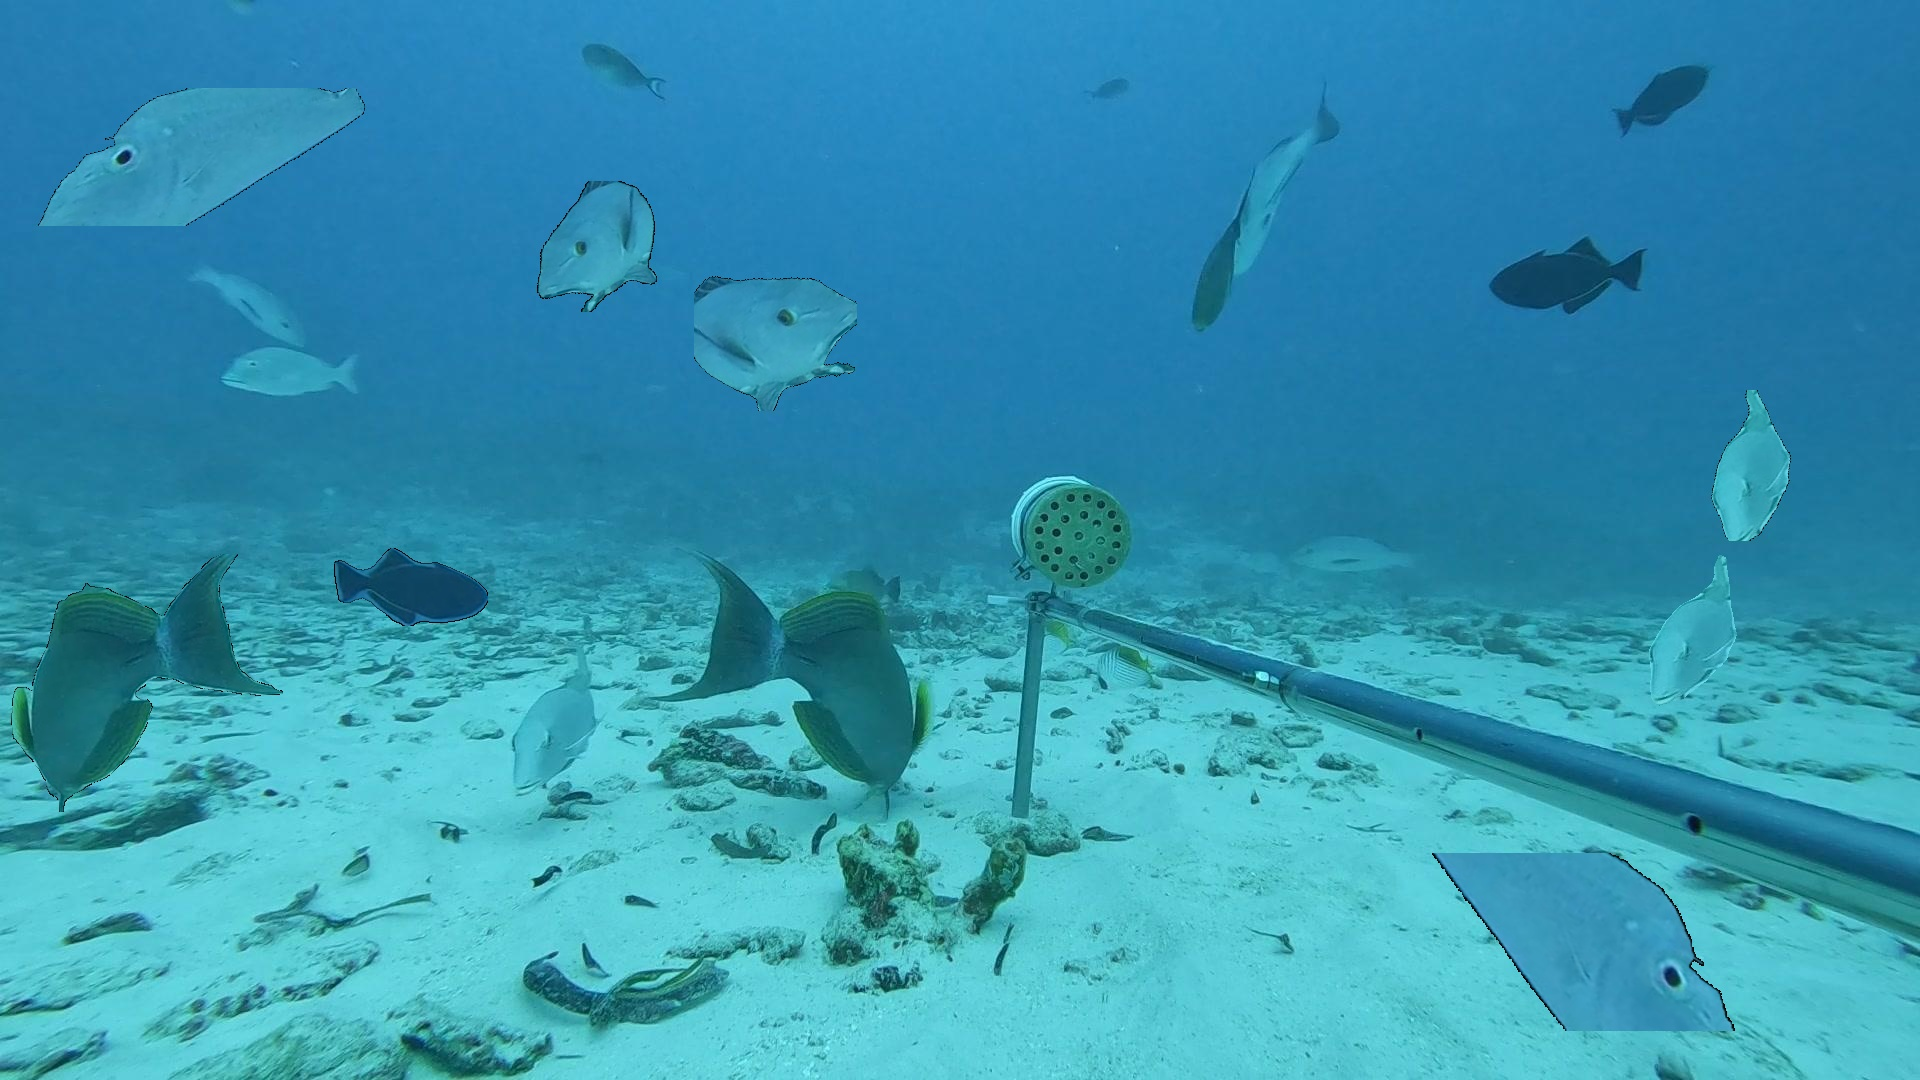fish: (658, 535, 956, 822), (1360, 853, 1809, 1031), (11, 554, 284, 812), (1155, 65, 1375, 356), (22, 88, 372, 225), (1477, 207, 1665, 352), (694, 247, 857, 411), (171, 237, 326, 357), (527, 181, 659, 313), (500, 638, 600, 811), (1593, 40, 1730, 164), (208, 336, 378, 423), (1702, 390, 1791, 541), (1648, 555, 1737, 705), (334, 549, 488, 626), (568, 25, 682, 123), (1284, 521, 1425, 589), (1088, 646, 1155, 694), (819, 564, 906, 600), (1081, 65, 1134, 115)
